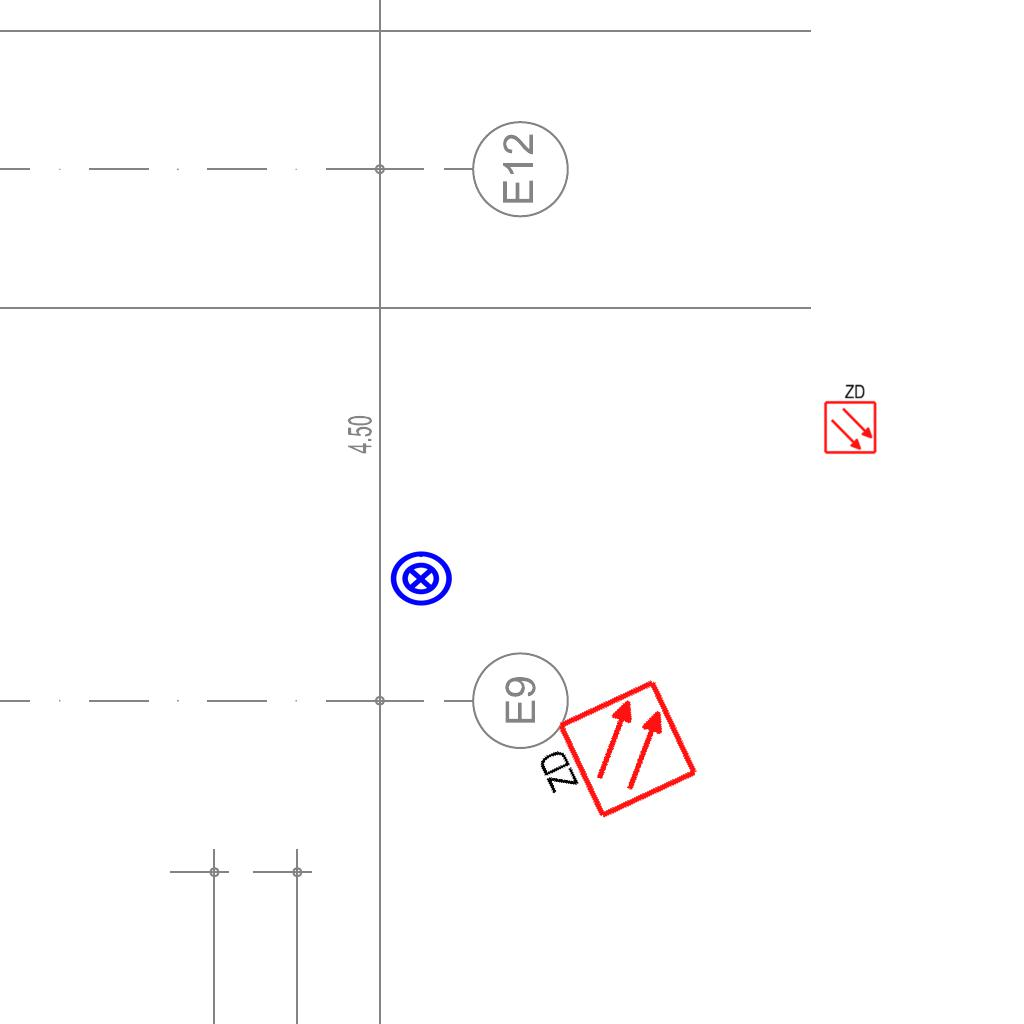Taster_beleuchtet: (388, 546, 454, 612)
ZD_Melder_in_Zwischendecke_mit_Revisionsoeffnung_mind_40_x_40_cm: (519, 675, 703, 842), (821, 381, 878, 455)
